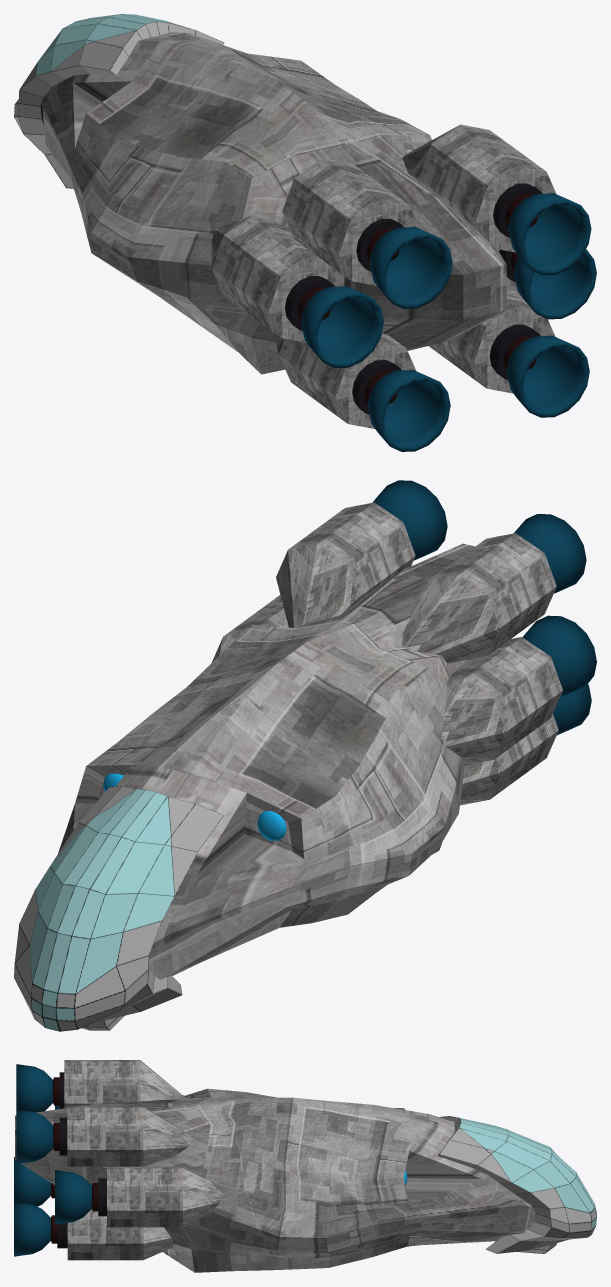
The model's file is scout.fbx.
3 renders of one model, top to bottom at view 1: azimuth 30°, elevation 25°; view 2: azimuth 150°, elevation 25°; view 3: azimuth 270°, elevation 25°, orthographic. The views are drawn at different scales.
Parts seen in each view (by area): view 1: Cube, Cylinder.008, Cylinder.002, Cylinder.003, Cube.001, Cone.003, Cone.005, Cone.001, Cone.004, Cone, Cylinder.004, Cylinder.009 (+6 smaller); view 2: Cube, Cube.001, Cylinder.008, Cylinder.003, Cylinder.002, Cylinder.004, Cone.005, Cone, Cone.003, Cone.001, Cylinder.001; view 3: Cube, Cube.001, Cylinder.003, Cylinder.001, Cylinder.008, Cylinder.009, Cone, Cone.002, Cone.004, Cone.003, Cone.001, Engine.002 (+1 smaller).
Part boxes in pixels (x1,y1,x2,y2): Cube: [41, 32, 506, 374]; Cylinder.008: [282, 158, 419, 285]; Cylinder.002: [211, 215, 344, 342]; Cylinder.003: [402, 124, 556, 252]; Cube.001: [14, 14, 224, 188]; Cone.003: [369, 227, 452, 308]; Cone.005: [301, 286, 383, 368]; Cone.001: [367, 370, 450, 451]; Cone.004: [506, 335, 589, 417]; Cone: [508, 193, 591, 275]; Cylinder.004: [273, 333, 416, 428]; Cylinder.009: [429, 289, 555, 393]; Cube: [58, 543, 474, 979]; Cube.001: [14, 786, 223, 1031]; Cylinder.008: [402, 533, 556, 663]; Cylinder.003: [276, 502, 415, 627]; Cylinder.002: [441, 637, 562, 765]; Cylinder.004: [460, 714, 558, 805]; Cone.005: [522, 615, 596, 697]; Cone: [373, 480, 447, 560]; Cone.003: [514, 514, 586, 593]; Cone.001: [553, 684, 591, 735]; Cylinder.001: [211, 595, 288, 662]; Cube: [15, 1088, 535, 1272]; Cube.001: [438, 1116, 596, 1253]; Cylinder.003: [67, 1106, 191, 1166]; Cylinder.001: [107, 1167, 222, 1227]; Cylinder.008: [64, 1060, 186, 1108]; Cylinder.009: [67, 1209, 173, 1260]; Cone: [16, 1109, 53, 1163]; Cone.002: [55, 1170, 91, 1224]; Cone.004: [14, 1202, 50, 1256]; Cone.003: [16, 1064, 52, 1112]; Cone.001: [14, 1157, 50, 1206]; Engine.002: [98, 1178, 106, 1216].
Bounding box in the file's own units: 296 × 230 × 697.
Materials: 11 (7 with a texture image).
